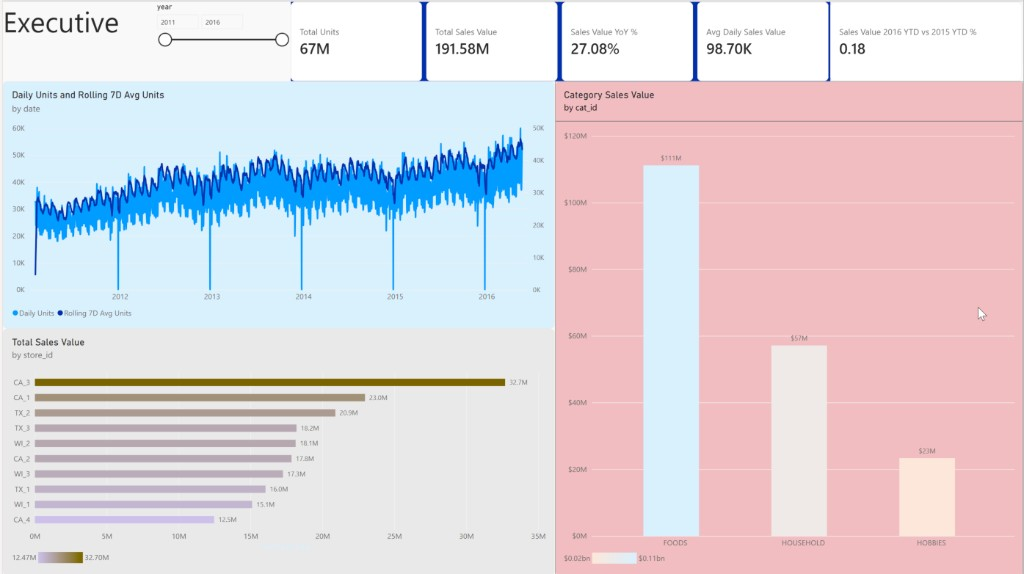

The dashboard page shown, as its layout file describes it:
{"tool":"powerbi","page":{"name":"Executive","canvas":[1920,1080],"ordinal":0},"visuals":[{"type":"slicer","fields":{"Values":["`workspace` `walmart_m5_gold` `dim_date`.year"]},"box":[281.8,0,259.7,149.2],"z":0},{"type":"cardVisual","fields":{"Data":["Table.Total Units","Table.Total Sales Value","Table.Sales Value YoY %","Table.Avg Daily Sales Value"]},"box":[541.2,0,1073.3,149.8],"z":1000},{"type":"lineChart","fields":{"Category":["`workspace` `walmart_m5_gold` `agg_demand_trends`.date.Variation.Date Hierarchy.Year"],"Y":["Table.Daily Units"],"Y2":["Table.Rolling 7D Avg Units"]},"box":[0,149.4,1038.1,465.5],"z":2000},{"type":"clusteredBarChart","fields":{"Category":["`workspace` `walmart_m5_gold` `dim_store`.store_id"],"Y":["Table.Total Sales Value"]},"box":[0,614.9,1038.1,464.3],"z":3000},{"type":"clusteredColumnChart","fields":{"Category":["`workspace` `walmart_m5_gold` `agg_daily_category_sales`.cat_id"],"Y":["Table.Category Sales Value"]},"box":[1038.1,149.4,881.9,929.8],"z":4000},{"type":"textbox","box":[0,0,244.5,81.5],"z":5000},{"type":"cardVisual","fields":{"Data":["Table.Sales Value 2016 YTD vs 2015 YTD %"]},"box":[1619.5,0,299.5,149.8],"z":6000}]}

Visuals, with their boxes in screenshot pixels (x1, y1, x2, y2), scaled from the page's 1920x1080 canvas onto the 1024x574 screenshot:
slicer - `workspace` `walmart_m5_gold` `dim_date`.year: bbox=[150, 0, 289, 79]
cardVisual - Table.Total Units x Table.Total Sales Value: bbox=[289, 0, 861, 80]
lineChart - `workspace` `walmart_m5_gold` `agg_demand_trends`.date.Variation.Date Hierarchy.Year x Table.Daily Units: bbox=[0, 79, 554, 327]
clusteredBarChart - `workspace` `walmart_m5_gold` `dim_store`.store_id x Table.Total Sales Value: bbox=[0, 327, 554, 573]
clusteredColumnChart - `workspace` `walmart_m5_gold` `agg_daily_category_sales`.cat_id x Table.Category Sales Value: bbox=[554, 79, 1023, 573]
textbox: bbox=[0, 0, 130, 43]
cardVisual - Table.Sales Value 2016 YTD vs 2015 YTD %: bbox=[864, 0, 1023, 80]
